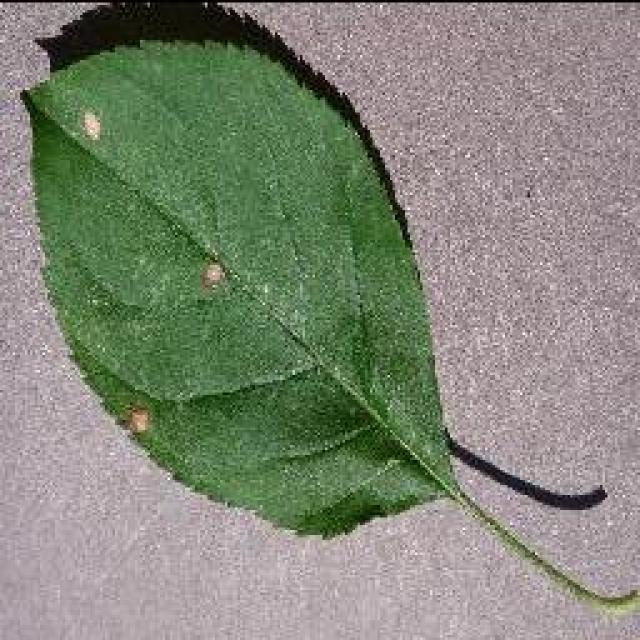Black_rot: (18, 0, 638, 615)
